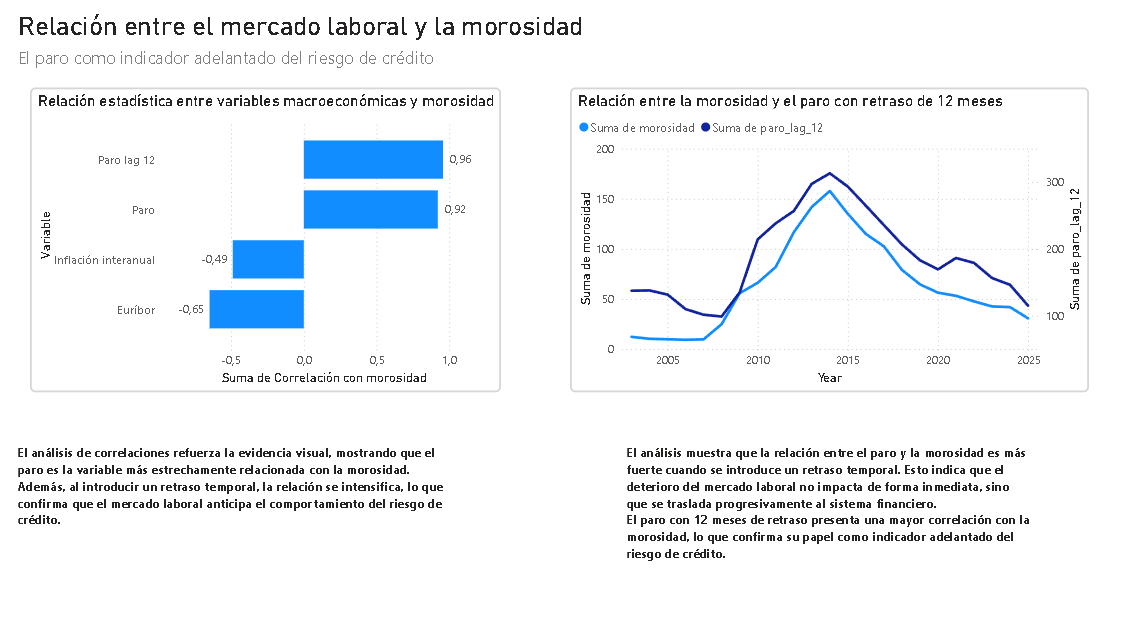

What the dashboard file says about the page in this screenshot:
{"tool":"powerbi","page":{"name":"paro vs morosidad","canvas":[1280,720],"ordinal":1},"visuals":[{"type":"lineChart","title":"Relación entre la morosidad y el paro con retraso de 12 meses","fields":{"Category":["dashboard_banca.fecha.Variación.Date Hierarchy.Year","dashboard_banca.fecha.Variación.Date Hierarchy.Quarter","dashboard_banca.fecha.Variación.Date Hierarchy.Month","dashboard_banca.fecha.Variación.Date Hierarchy.Day"],"Y":["Sum(dashboard_banca.morosidad)"],"Y2":["Sum(dashboard_banca.paro_lag_12)"]},"box":[640,105,576.7,338.3],"z":0},{"type":"clusteredBarChart","title":"Relación estadística entre variables macroeconómicas y morosidad","fields":{"Y":["Sum(correlaciones_resumen.Correlación con morosidad)"],"Category":["correlaciones_resumen.Variable"]},"box":[40,105,523.3,338.3],"z":1000},{"type":"textbox","title":"Relación entre el mercado laboral y la morosidad","box":[21.7,20,660,73.3],"z":2001},{"type":"textbox","box":[698.3,481.7,460,178.3],"z":2002},{"type":"textbox","box":[53.3,495,498.3,150],"z":2003}]}

Visuals, with their boxes in screenshot pixels (x1, y1, x2, y2), scaled from the page's 1280x720 canvas onto the 1141x636 screenshot:
"Relación entre la morosidad y el paro con retraso de 12 meses" lineChart: [570, 93, 1085, 392]
"Relación estadística entre variables macroeconómicas y morosidad" clusteredBarChart: [36, 93, 502, 392]
"Relación entre el mercado laboral y la morosidad" textbox: [19, 18, 608, 82]
textbox: [622, 426, 1033, 583]
textbox: [48, 437, 492, 570]
